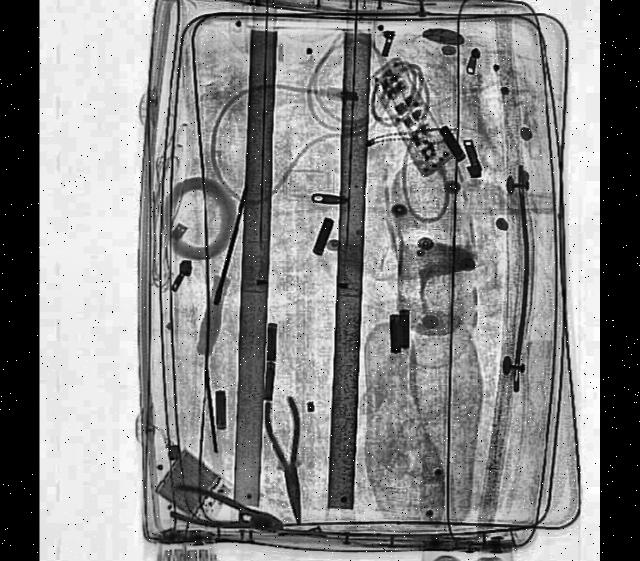Pliers: (171, 477, 288, 546), (265, 393, 316, 524)
